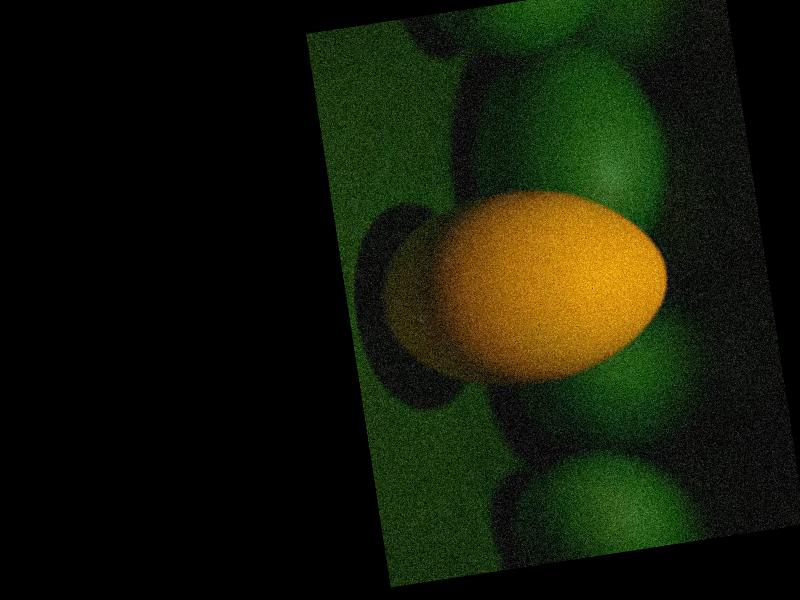Eggs: (368, 170, 678, 404)
